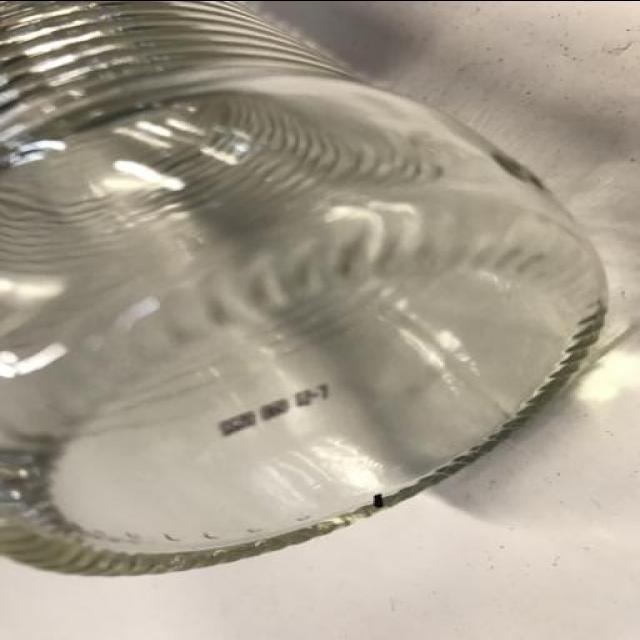glass: (1, 0, 630, 587)
